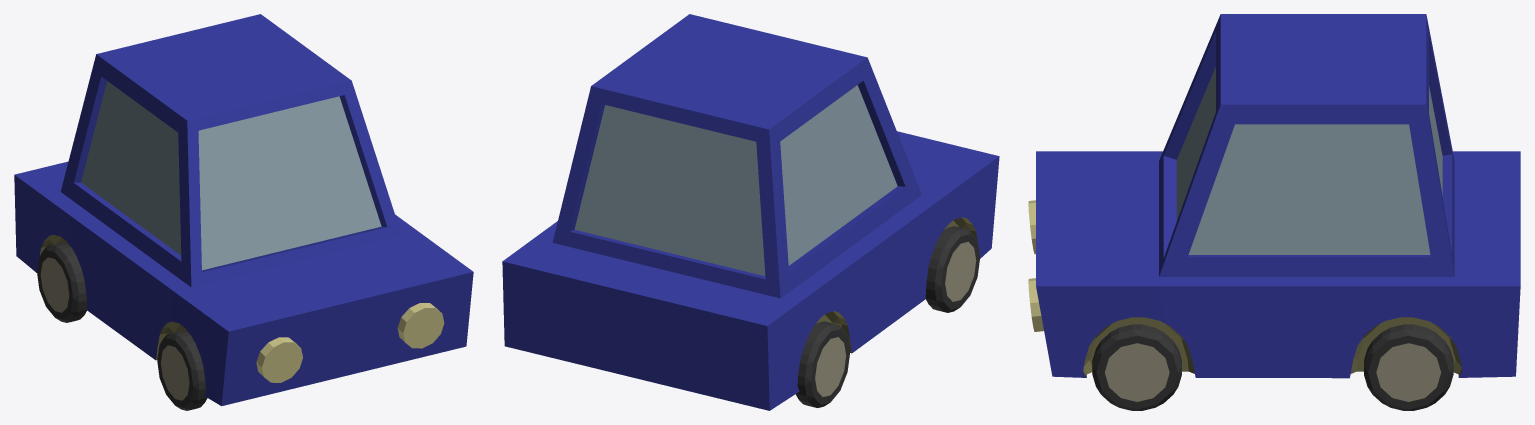
Rendered from car_02.fbx.
3 renders of one model, left to right at view 1: azimuth 30°, elevation 25°; view 2: azimuth 150°, elevation 25°; view 3: azimuth 270°, elevation 25°, orthographic. The views are drawn at different scales.
Visible parts, largest first — view 1: car; view 2: car; view 3: car.
Part boxes in pixels (x1=…): car: x1=14, y1=14, x2=473, y2=410; car: x1=502, y1=14, x2=999, y2=410; car: x1=1028, y1=14, x2=1520, y2=410.
Size of the model in its own units: 429 by 389 by 616.
